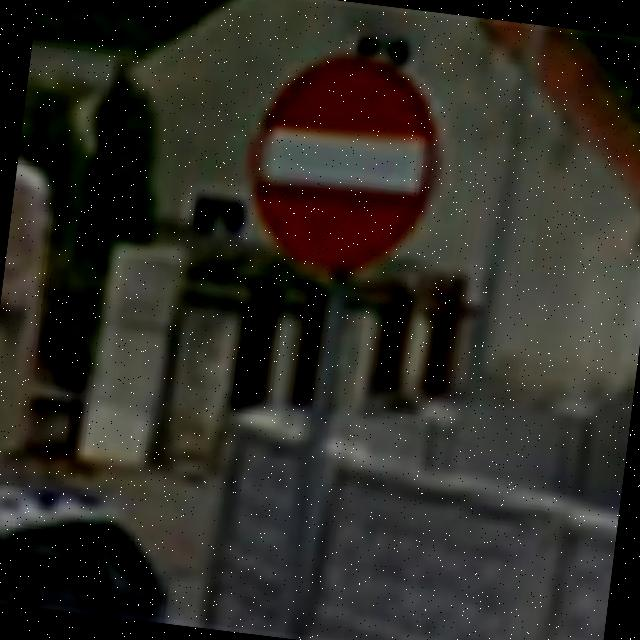Zakaz wjazdu: (235, 43, 452, 286)
